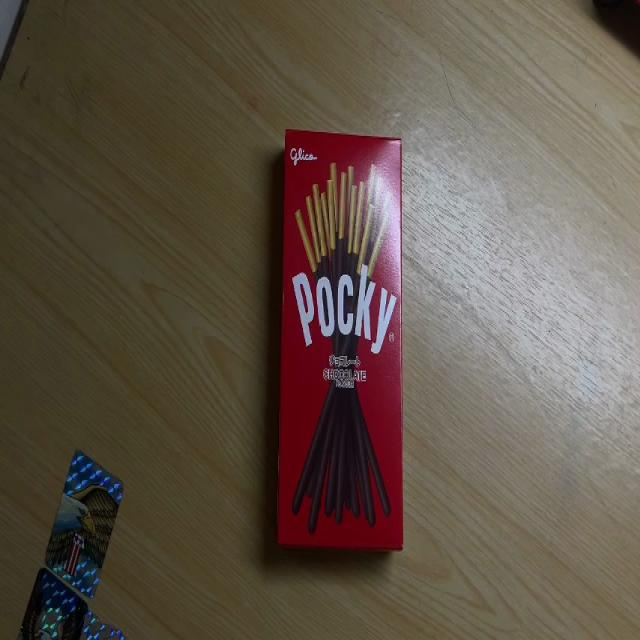Pocky: (277, 128, 403, 551)
